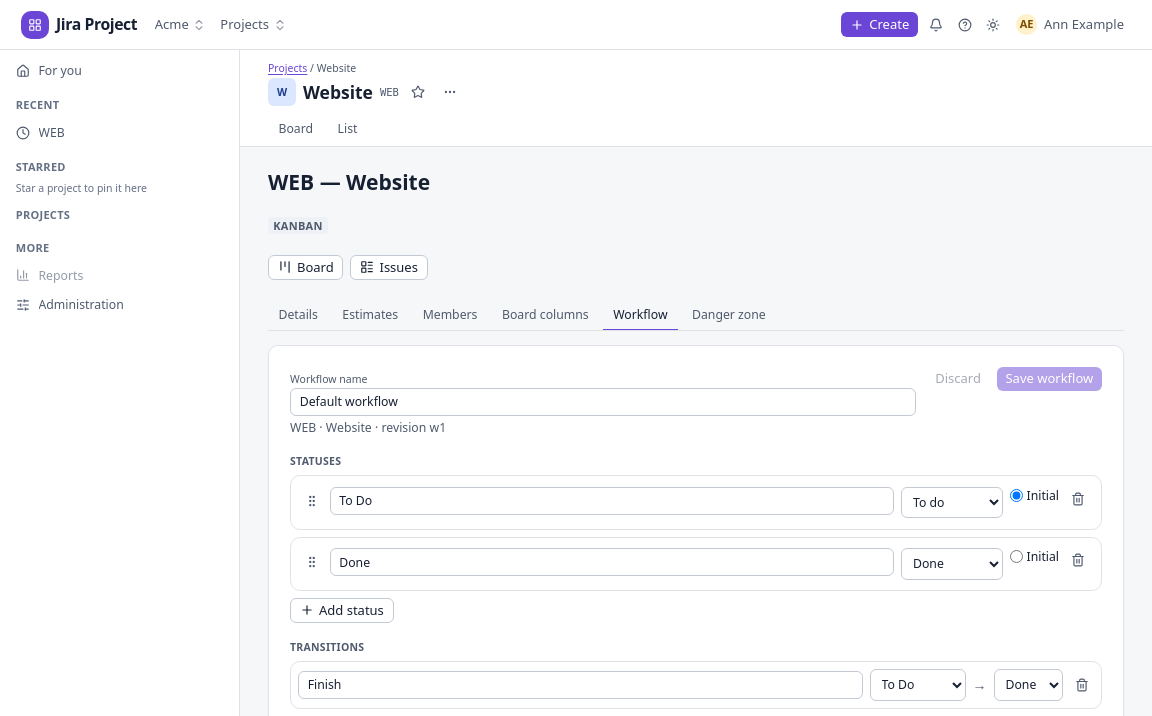
Test: Project workflow editor › saves with If-Match and keeps draft on 412
Replace the text in the field labelled "Workflow name" with "Updated name": (603, 402) [290,388,916,416]
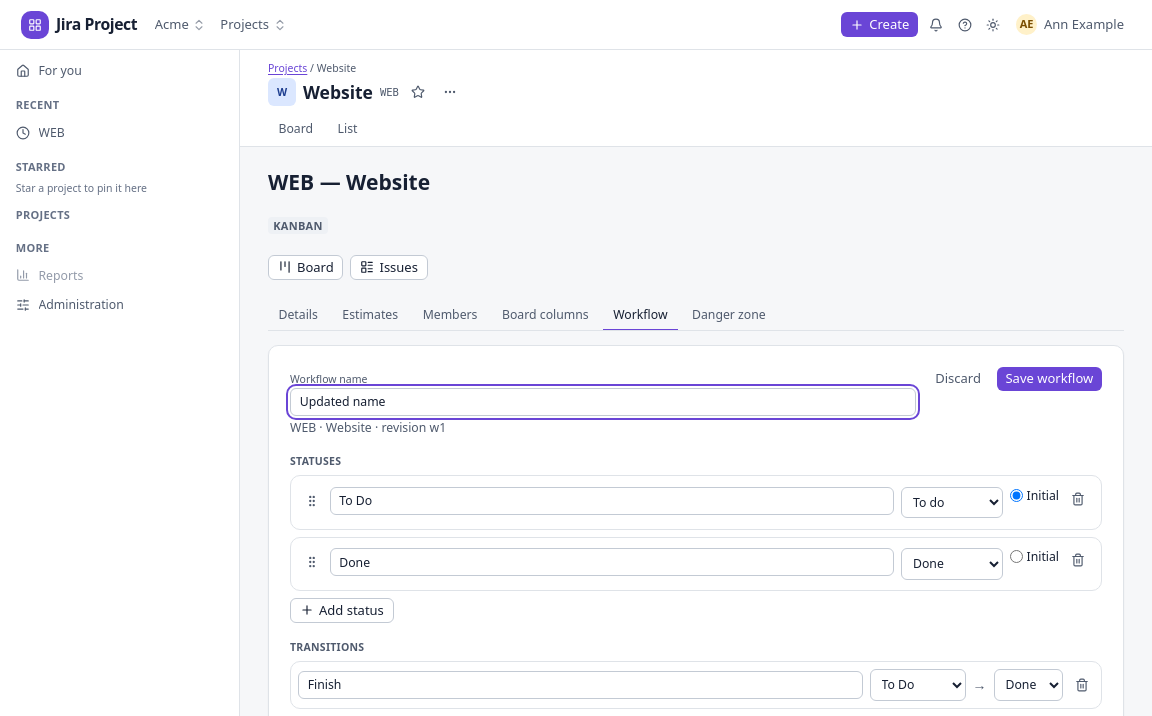
Click the button "Save workflow": (1049, 379) [997,366,1102,391]
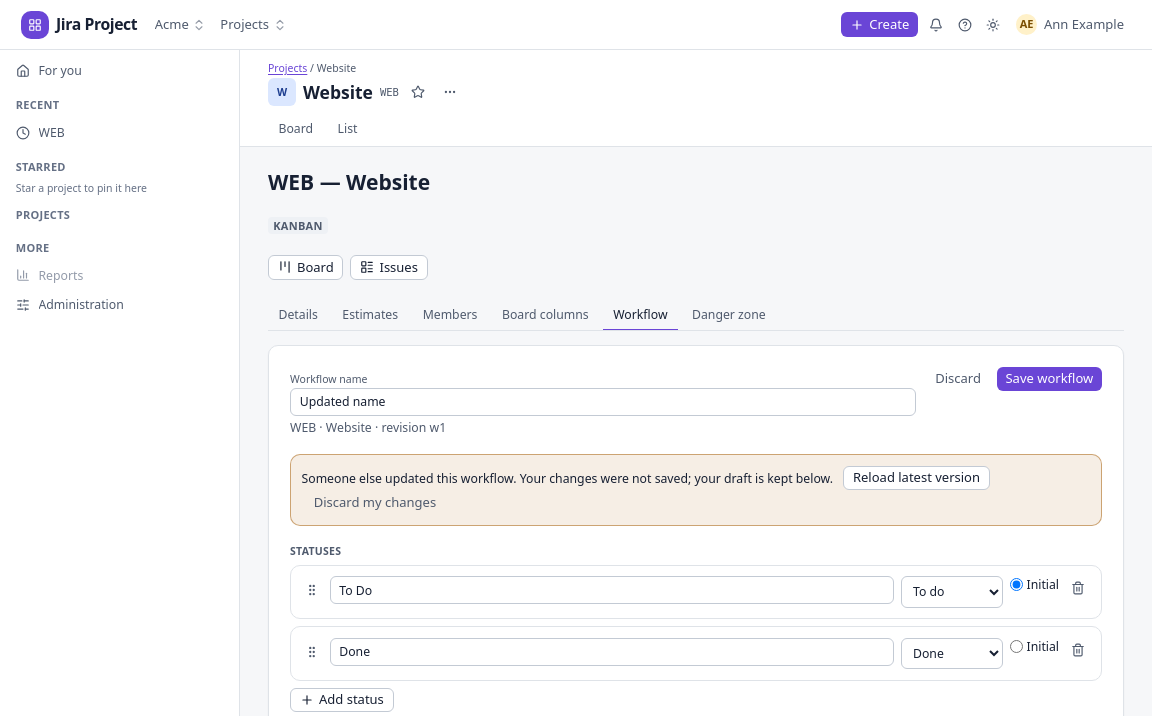
Result: the text "Someone else updated this workflow" is shown at [302,470,833,486]
